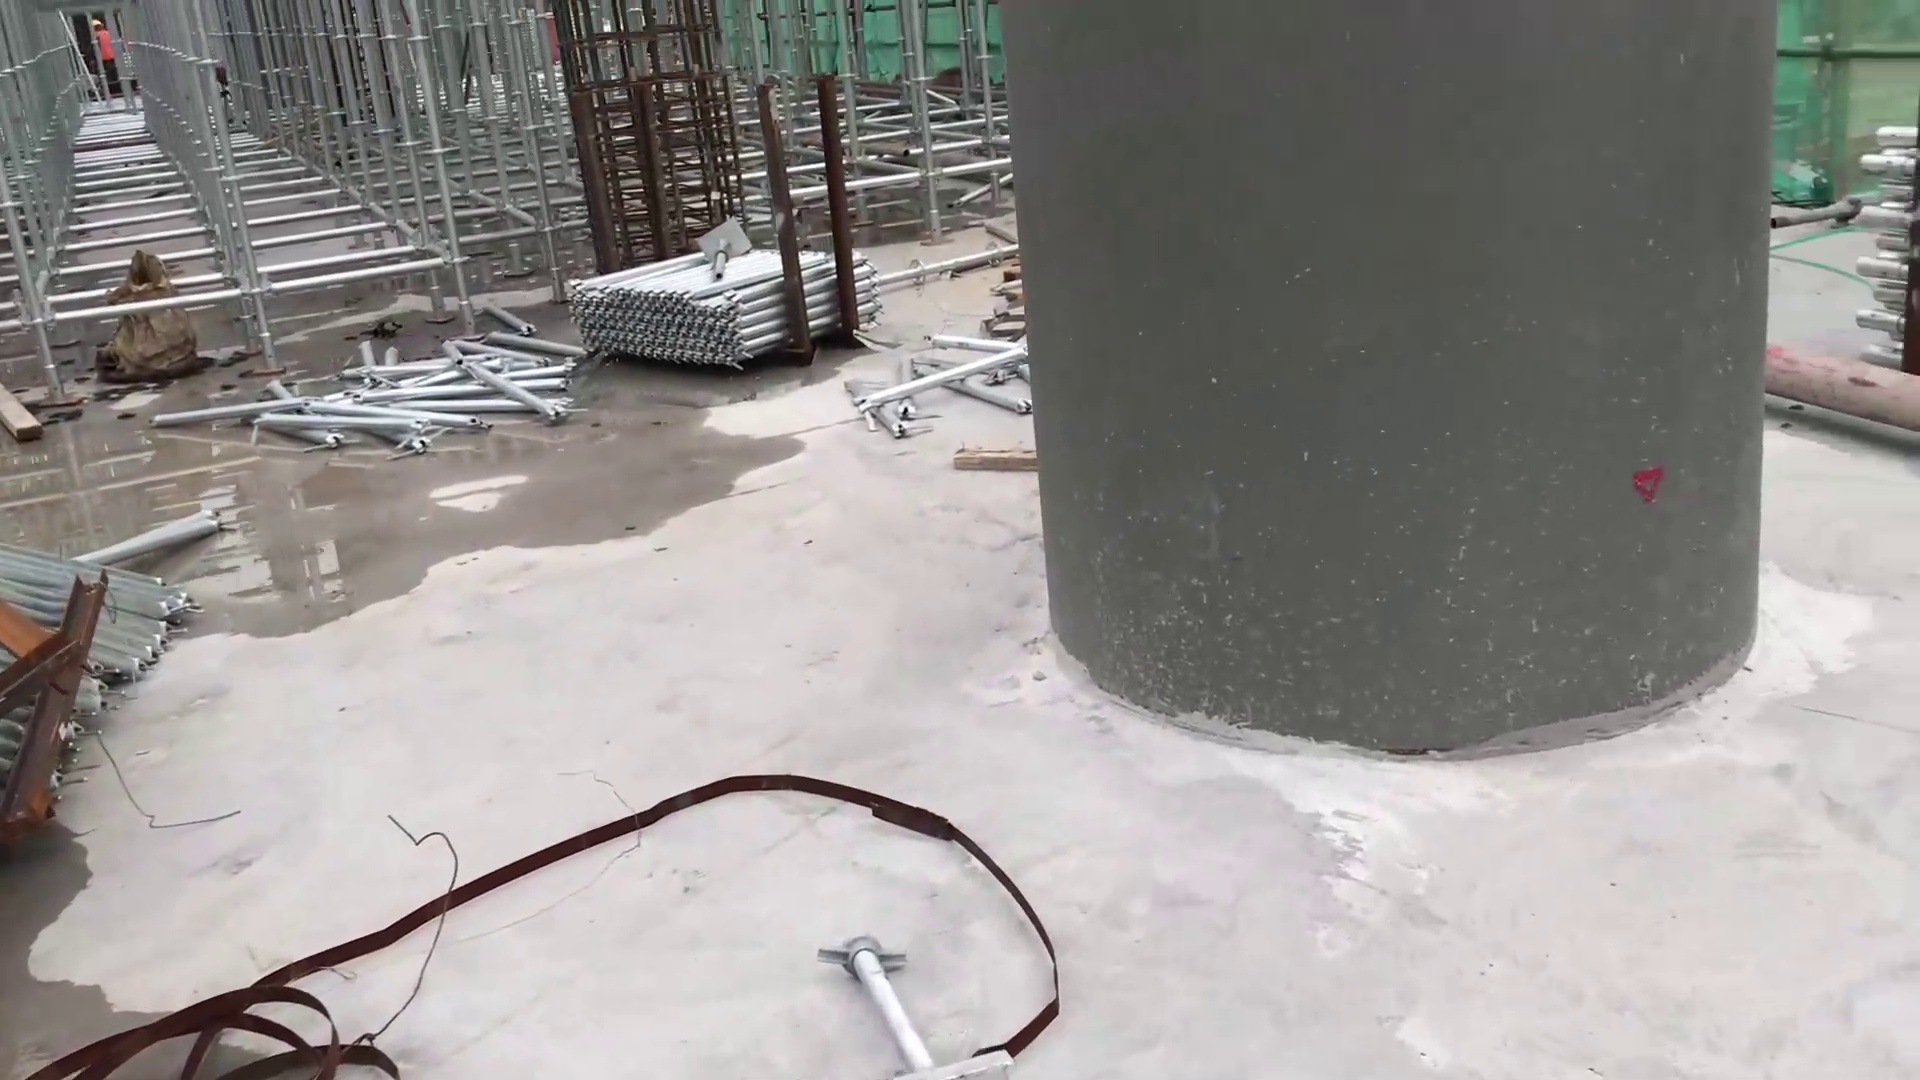scaffold: (566, 237, 886, 376)
